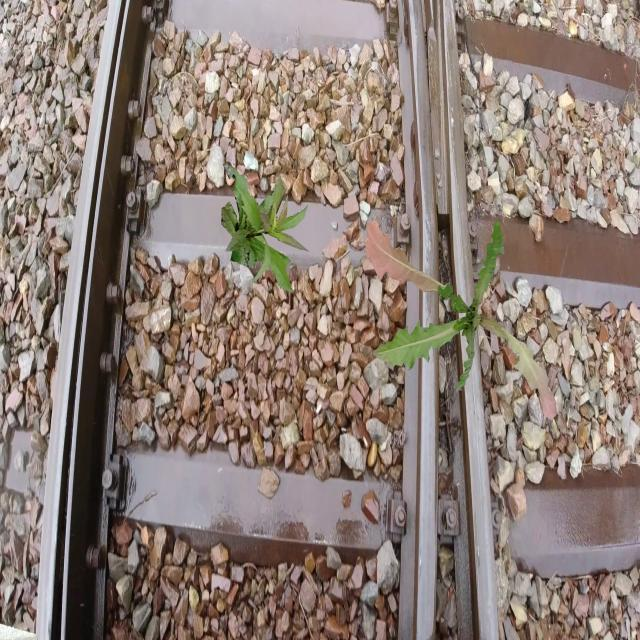Plant: (364, 218, 556, 420), (221, 164, 310, 294)
